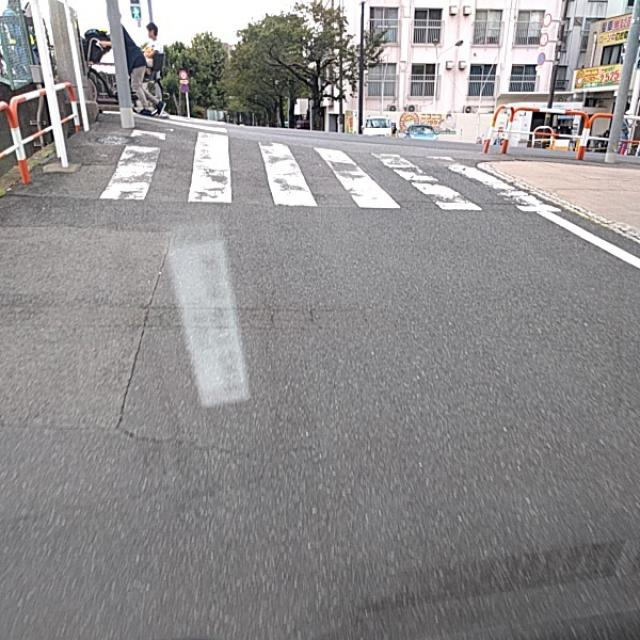pothole: (117, 292, 173, 443)
